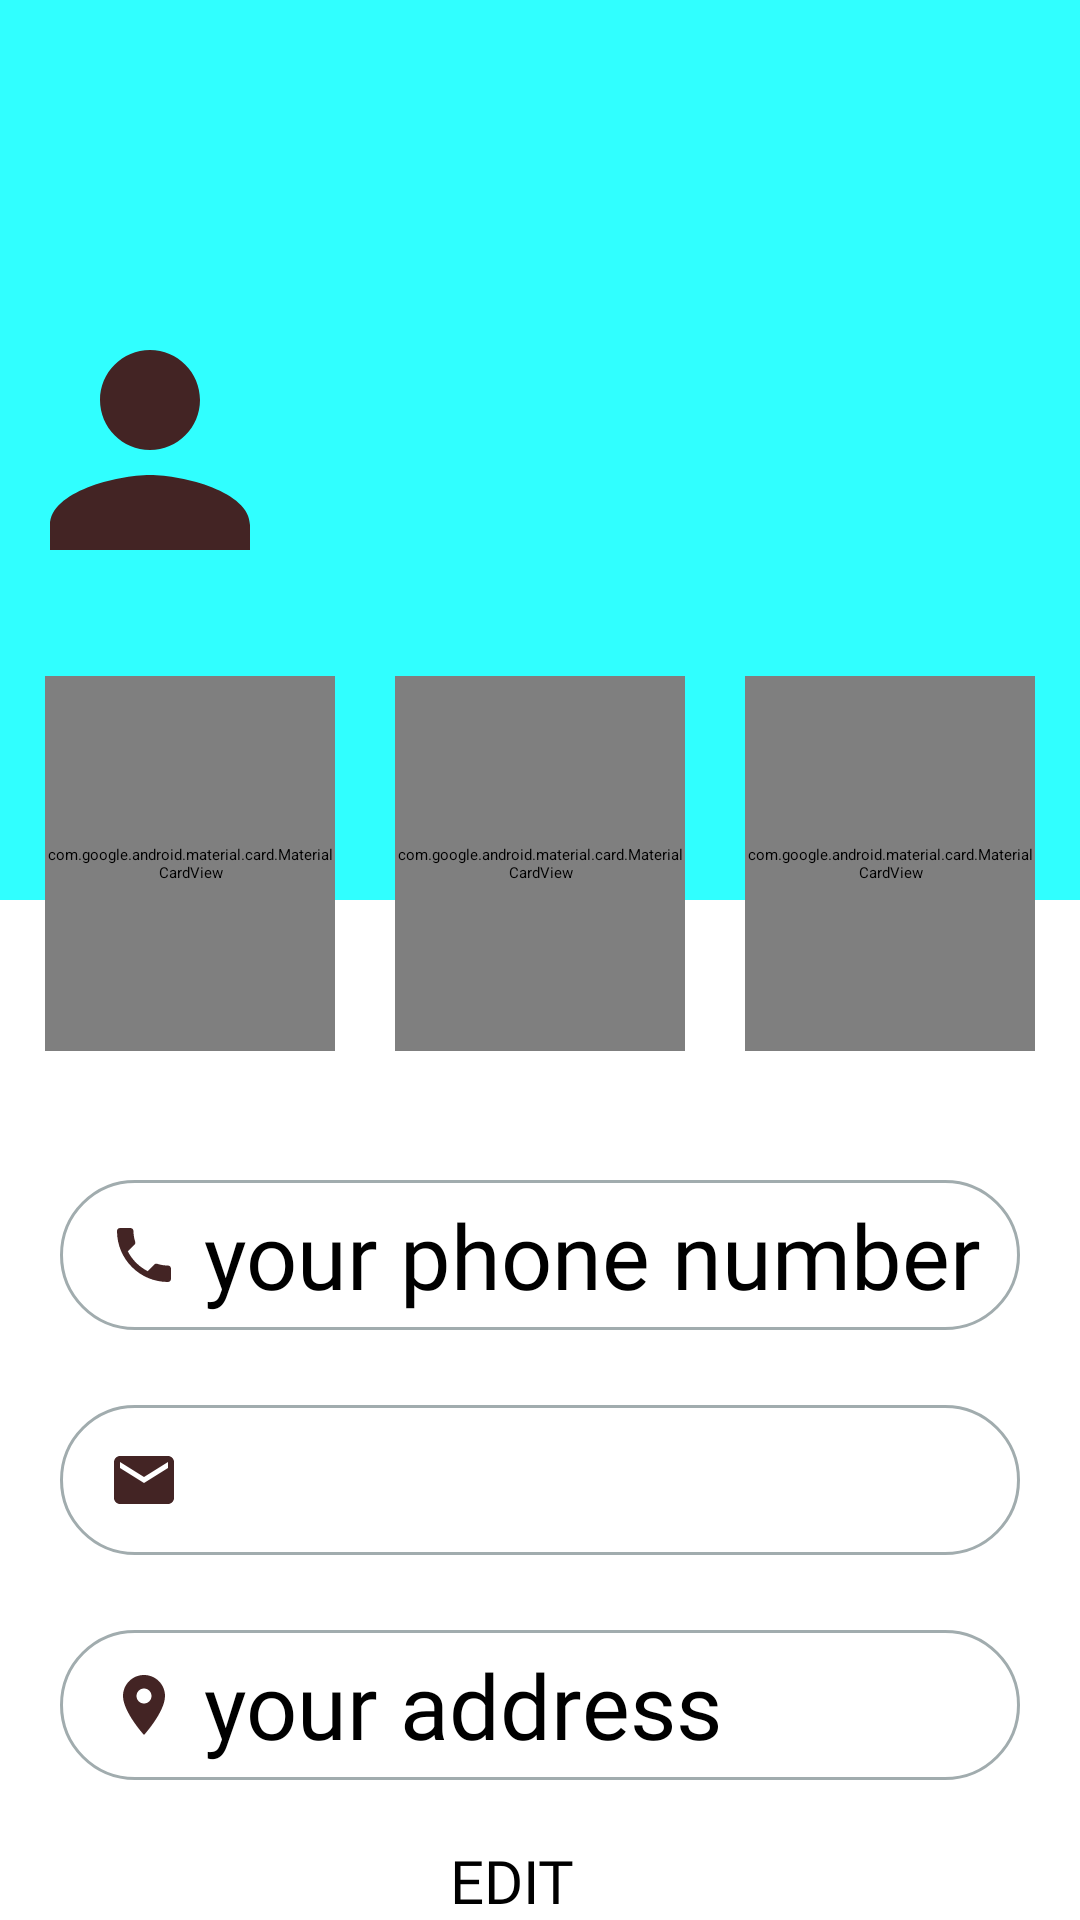

Screen size 1080*1920. Icon name, then its center in pixels as point (x, y):
person: point (150, 450)
